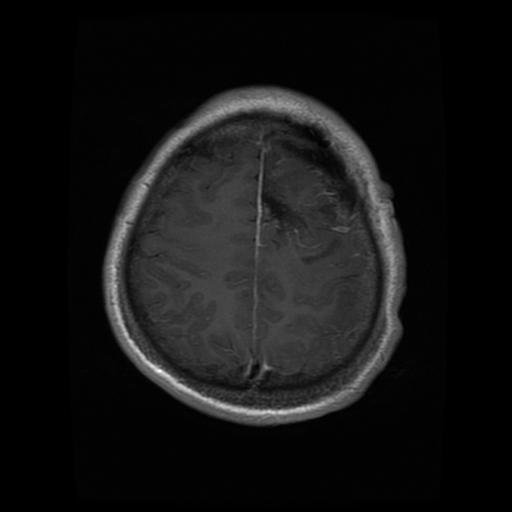Gliomia_tumour: (259, 138, 355, 241)
